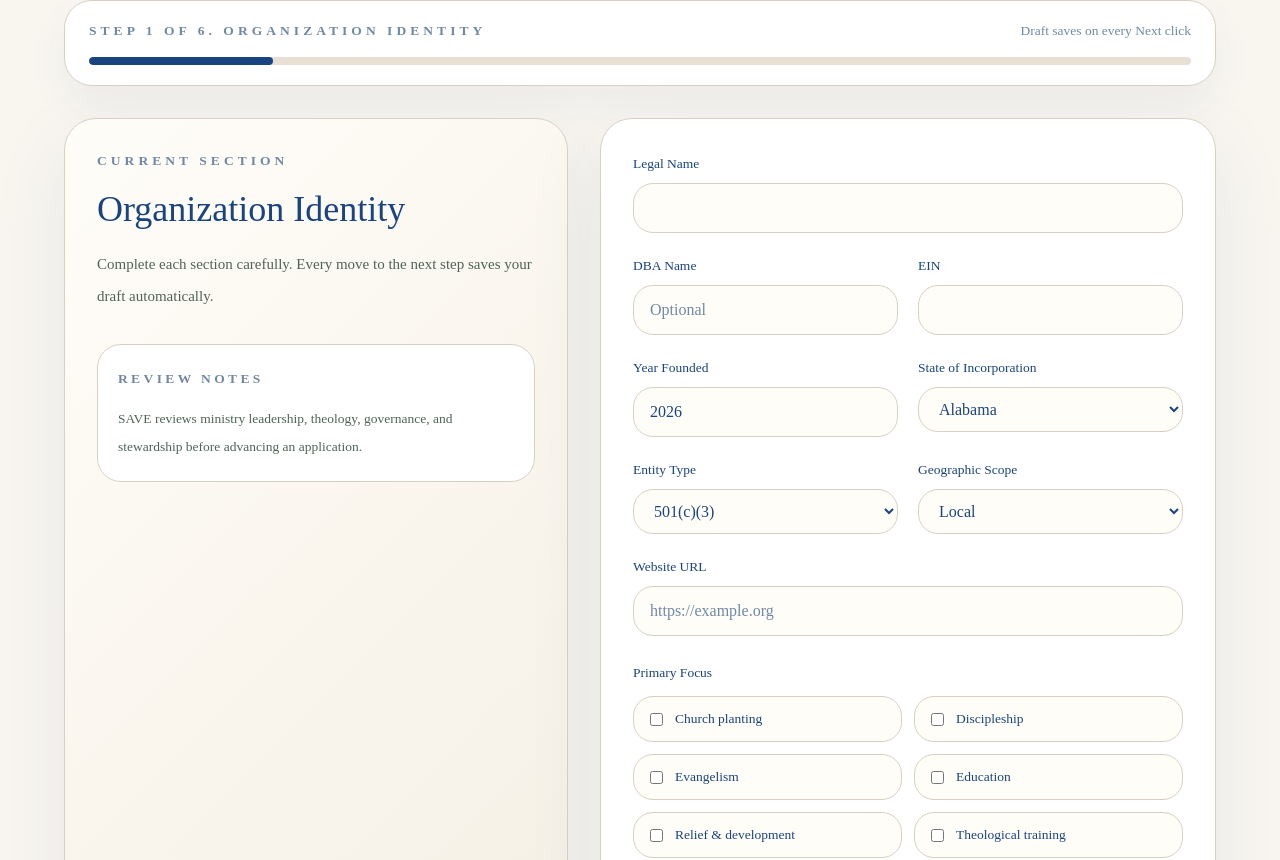
Test: InquiryForm step 1 completion › never shows raw Zod type output to a ministry
Step 1. Click the text "Discipleship" → (990, 719), box [956,709,1024,729]
(page scrolled)
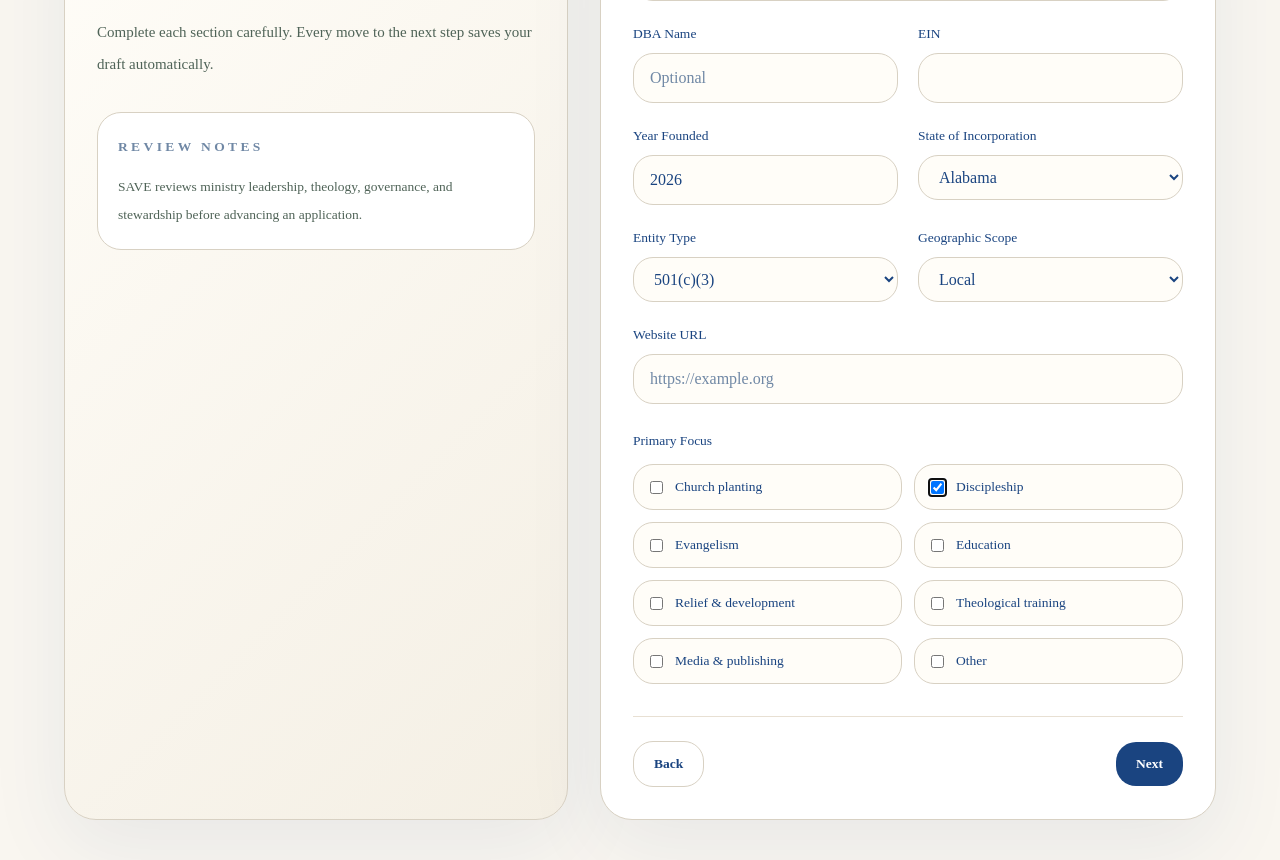
Step 2. Click the button "Next" → (1150, 764), box [1116,742,1183,786]
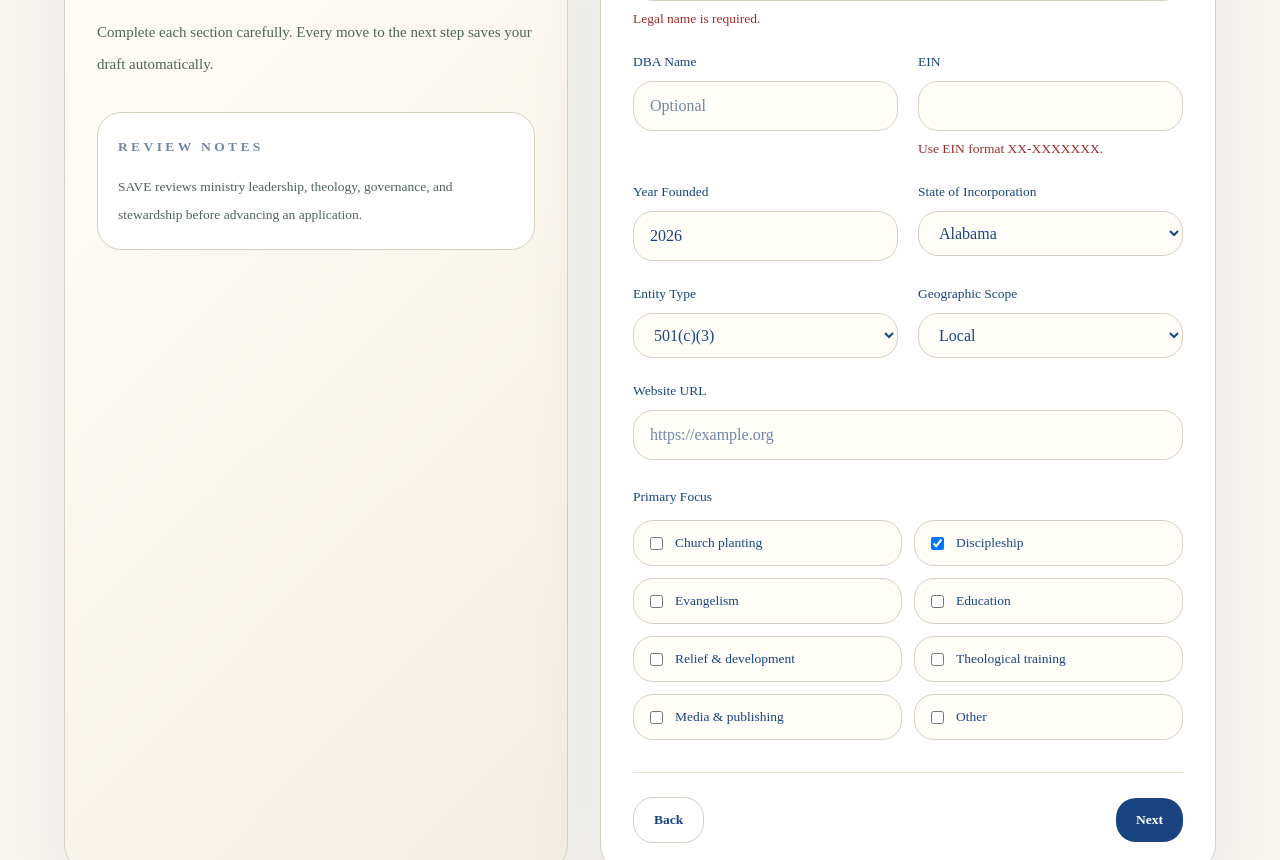
Result: the text "Legal name is required." is shown at [633,11,760,26]
